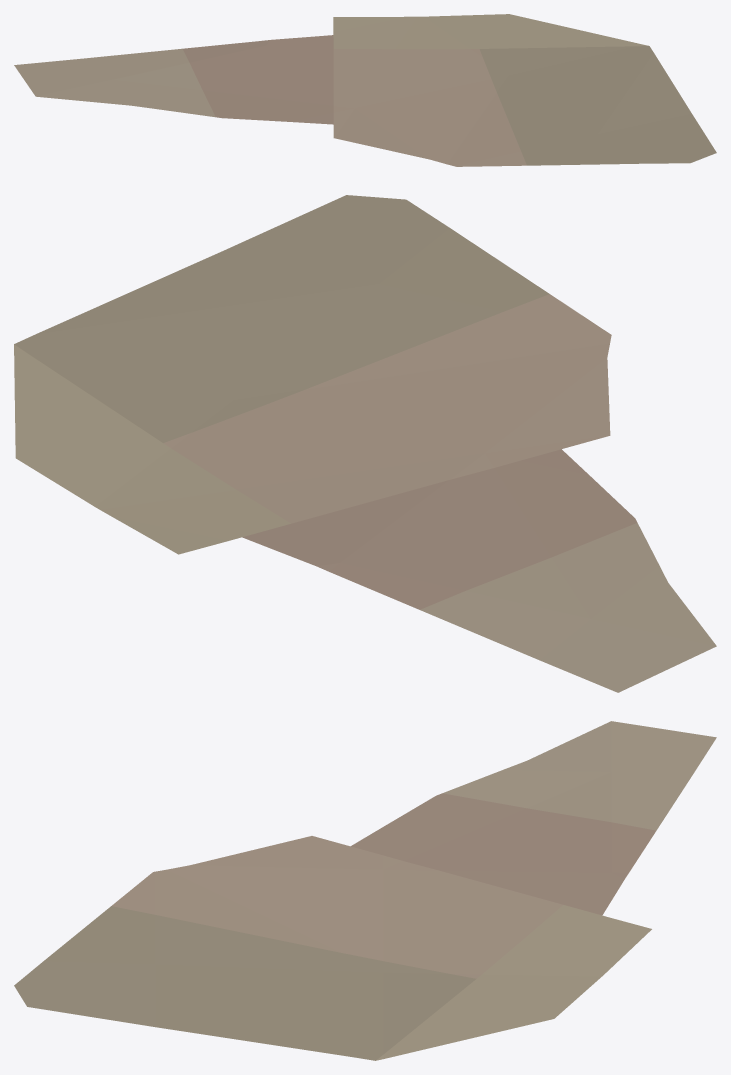
File: farm_24_16_soil.glb
3 views of the same model, one above another, from view 1: azimuth 30°, elevation 25°; view 2: azimuth 150°, elevation 25°; view 3: azimuth 270°, elevation 25° (orthographic). The views are drawn at different scales.
Visible parts, largest first — view 1: geometry_0; view 2: geometry_0; view 3: geometry_0.
Boxes of the visible parts, x1,y1,x2,y2 form: geometry_0: [14, 14, 716, 166]; geometry_0: [14, 195, 716, 692]; geometry_0: [14, 721, 716, 1060].
Size of the model in its own units: 272 by 6.14 by 247.
